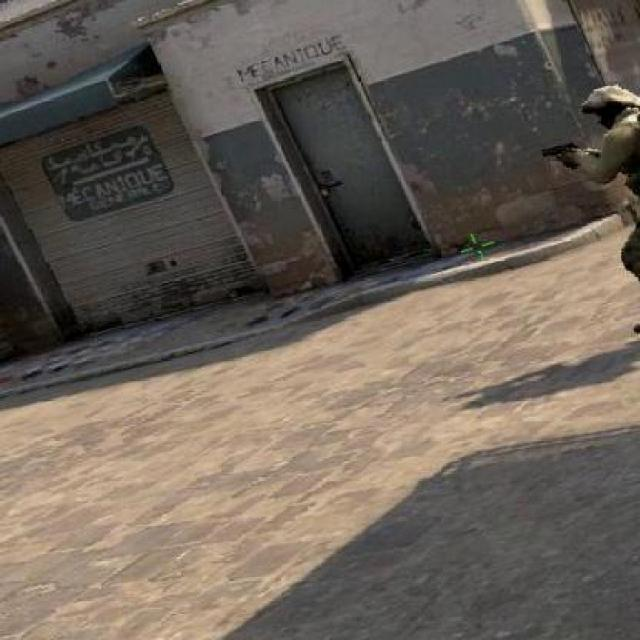CT-Body: (584, 80, 638, 131)
CT-Head: (576, 67, 638, 255)
